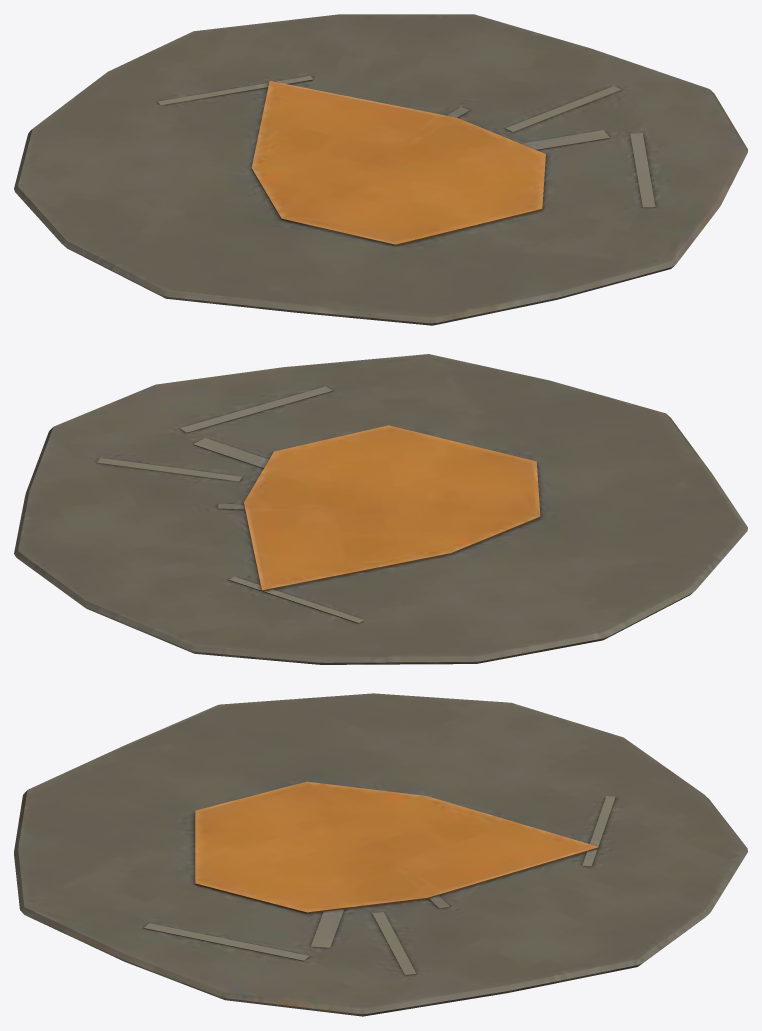
File: camp_mark_resinback.glb
3 renders of one model, top to bottom at view 1: azimuth 30°, elevation 25°; view 2: azimuth 150°, elevation 25°; view 3: azimuth 270°, elevation 25°, orthographic.
Visible parts, largest first — view 1: camp_mark_resinback_body; view 2: camp_mark_resinback_body; view 3: camp_mark_resinback_body.
Part boxes in pixels (<box>): camp_mark_resinback_body: <box>14,14,747,325</box>; camp_mark_resinback_body: <box>14,354,747,664</box>; camp_mark_resinback_body: <box>14,693,747,1016</box>.
Size of the model in its own units: 1.75 by 0.0246 by 1.71.
Materials: 1 (1 with a texture image).
